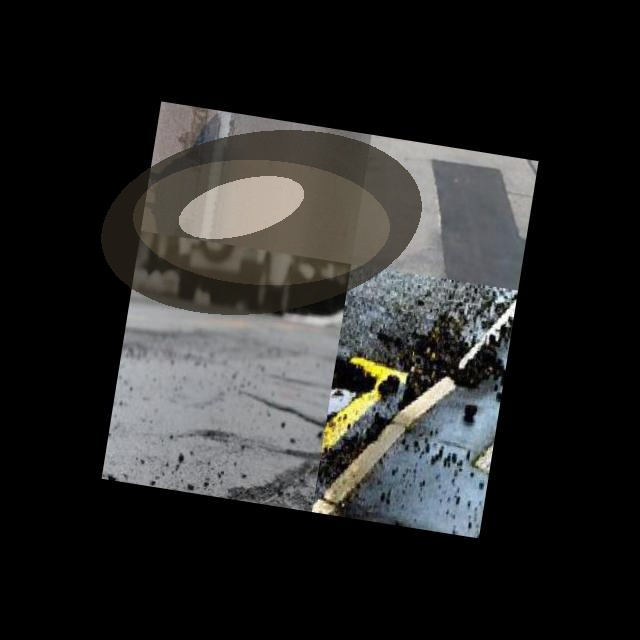waterlogging: (90, 122, 432, 322)
